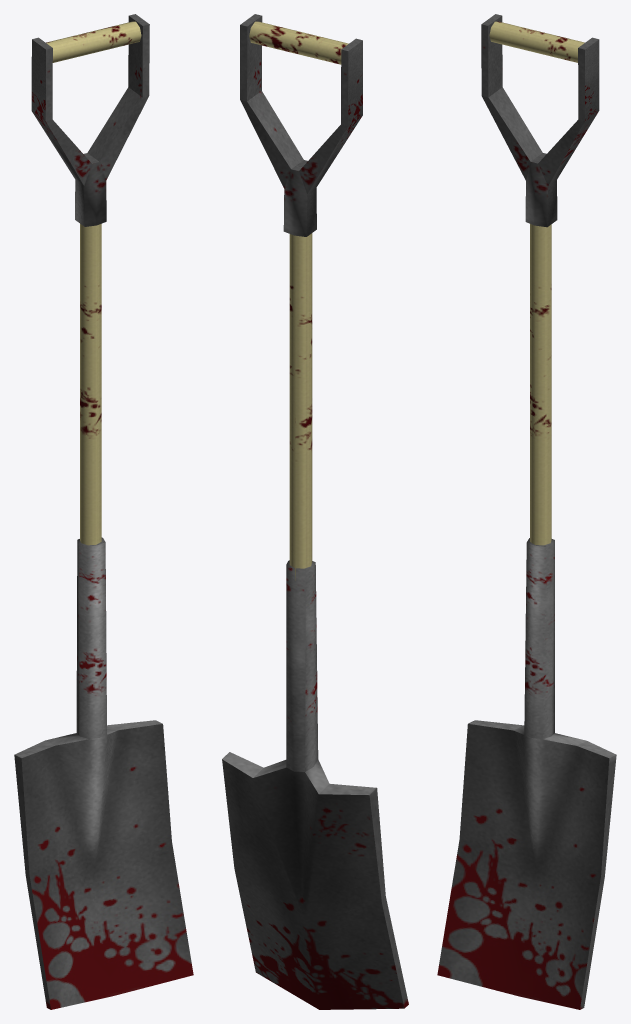
The model's file is shovel.fbx.
The picture shows the model from 3 angles, left to right: view 1: azimuth 30°, elevation 25°; view 2: azimuth 150°, elevation 25°; view 3: azimuth 330°, elevation 25°; orthographic projection. The views are drawn at different scales.
Parts seen in each view (by area): view 1: polySurface8; view 2: polySurface8; view 3: polySurface8.
Boxes of the visible parts, x1,y1,x2,y2 form: polySurface8: (14,14,193,1009); polySurface8: (222,14,408,1009); polySurface8: (437,14,616,1009).
Bounding box in the file's own units: 4.3 × 27.39 × 2.42.
1 material, 1 textured.
